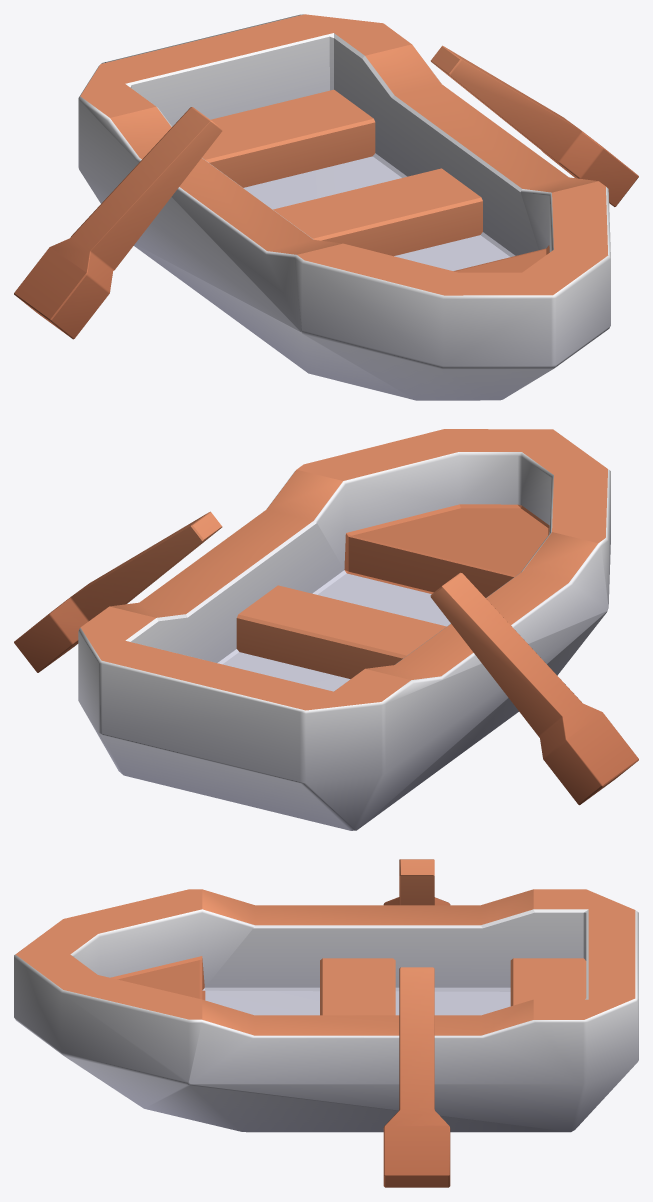
The model's file is kenney-pirate__boat-row-large.glb.
The picture shows the model from 3 angles, top to bottom: view 1: azimuth 30°, elevation 25°; view 2: azimuth 150°, elevation 25°; view 3: azimuth 270°, elevation 25°; orthographic projection. The views are drawn at different scales.
Parts seen in each view (by area): view 1: boat-row-large, paddles; view 2: boat-row-large, paddles; view 3: boat-row-large, paddles.
Part boxes in pixels (x1=…): boat-row-large: x1=78, y1=14, x2=610, y2=400; paddles: x1=14, y1=45, x2=638, y2=339; boat-row-large: x1=78, y1=429, x2=610, y2=830; paddles: x1=14, y1=511, x2=638, y2=805; boat-row-large: x1=14, y1=889, x2=638, y2=1132; paddles: x1=383, y1=859, x2=450, y2=1187.
Bounding box in the file's own units: 2.74 × 0.8454 × 2.85.
1 material, 1 textured.
